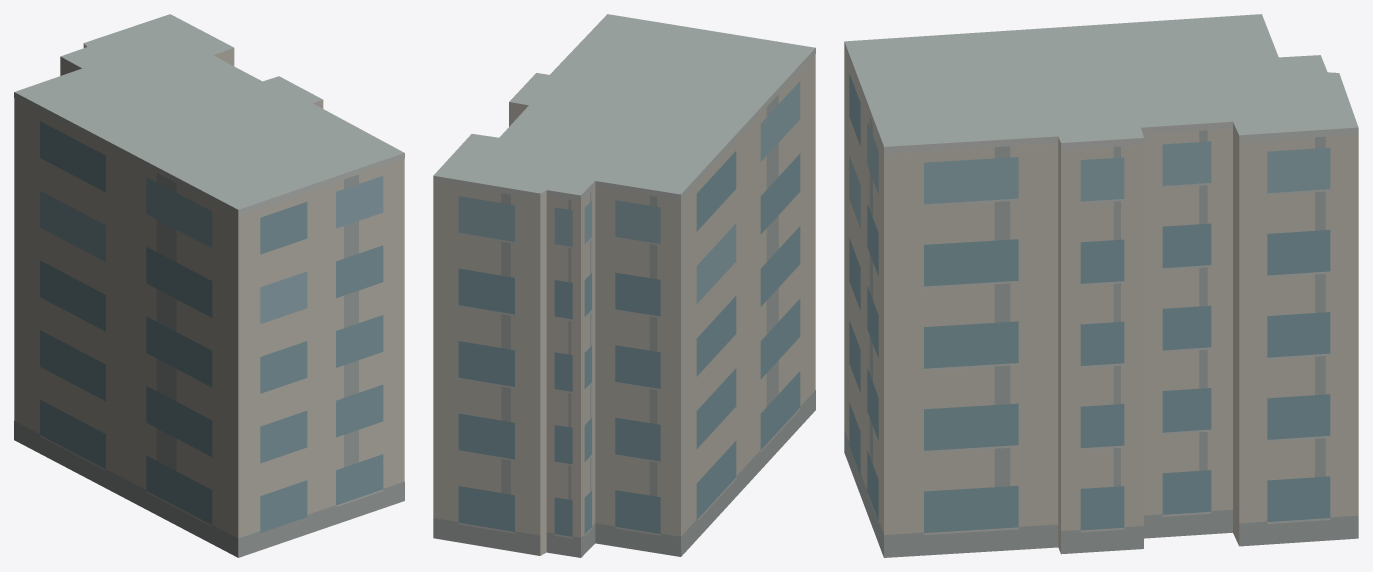
Rendered from survey-upis-32917239.glb.
3 views of the same model, side by side, from view 1: azimuth 30°, elevation 25°; view 2: azimuth 150°, elevation 25°; view 3: azimuth 270°, elevation 25° (orthographic). The views are drawn at different scales.
Visible parts, largest first — view 1: survey-upis-32917239.tmp; view 2: survey-upis-32917239.tmp; view 3: survey-upis-32917239.tmp.
Boxes of the visible parts, x1=… form: survey-upis-32917239.tmp: x1=14, y1=14, x2=404, y2=557; survey-upis-32917239.tmp: x1=433, y1=14, x2=815, y2=557; survey-upis-32917239.tmp: x1=844, y1=14, x2=1358, y2=557.
Size of the model in its own units: 9.99 by 14.4 by 16.34.
